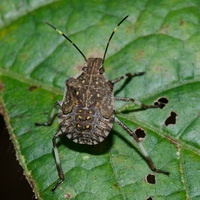insect: (35, 15, 169, 191)
